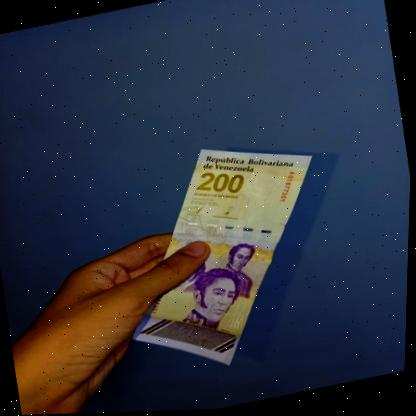two_hundred-front-vef: (100, 125, 347, 388)
